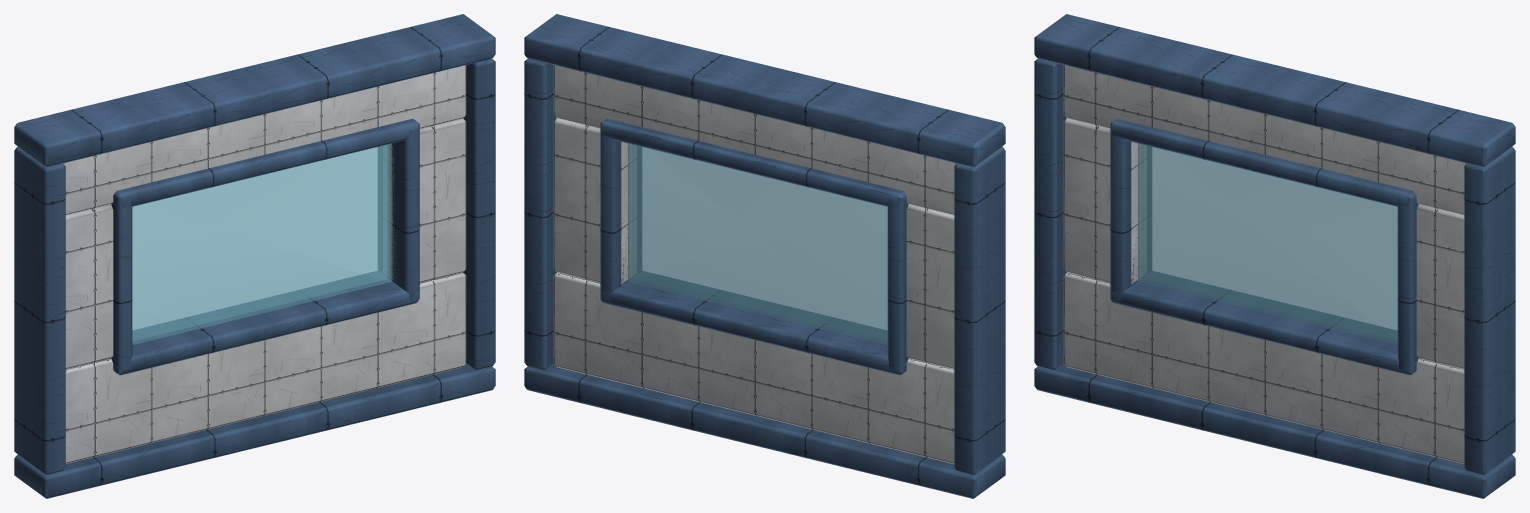
The model's file is window_wall.glb.
The picture shows the model from 3 angles, left to right: view 1: azimuth 30°, elevation 25°; view 2: azimuth 150°, elevation 25°; view 3: azimuth 330°, elevation 25°; orthographic projection.
Visible parts, largest first — view 1: window_wall_navy_frame, window_wall_hull_offwhite, window_wall_glass_cyan; view 2: window_wall_navy_frame, window_wall_hull_offwhite, window_wall_glass_cyan; view 3: window_wall_navy_frame, window_wall_hull_offwhite, window_wall_glass_cyan.
Boxes of the visible parts, bbox=[...] form: window_wall_navy_frame: bbox=[14, 14, 495, 498]; window_wall_hull_offwhite: bbox=[62, 65, 466, 463]; window_wall_glass_cyan: bbox=[132, 143, 391, 344]; window_wall_navy_frame: bbox=[524, 14, 1005, 498]; window_wall_hull_offwhite: bbox=[553, 65, 957, 463]; window_wall_glass_cyan: bbox=[628, 143, 887, 344]; window_wall_navy_frame: bbox=[1034, 14, 1515, 498]; window_wall_hull_offwhite: bbox=[1063, 65, 1467, 463]; window_wall_glass_cyan: bbox=[1138, 143, 1397, 344].
Size of the model in its own units: 4 by 3 by 0.5.
3 materials, 2 textured.
